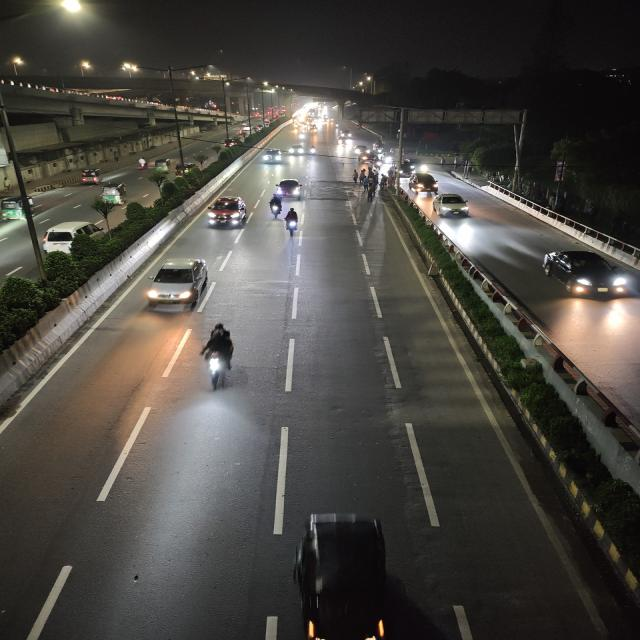car: (538, 246, 638, 305), (142, 255, 213, 315), (40, 220, 103, 254), (203, 194, 250, 232), (431, 192, 474, 220), (271, 177, 308, 201), (409, 172, 441, 195), (76, 167, 105, 186), (259, 146, 285, 166), (400, 158, 420, 176), (288, 144, 306, 156)
cng: (0, 193, 39, 222), (98, 180, 130, 208), (76, 167, 104, 186), (153, 156, 172, 174)
motorcycle: (196, 320, 242, 393), (282, 206, 302, 238), (267, 193, 284, 221), (135, 155, 150, 171)
pedestrian: (363, 175, 378, 198), (350, 168, 363, 184)
